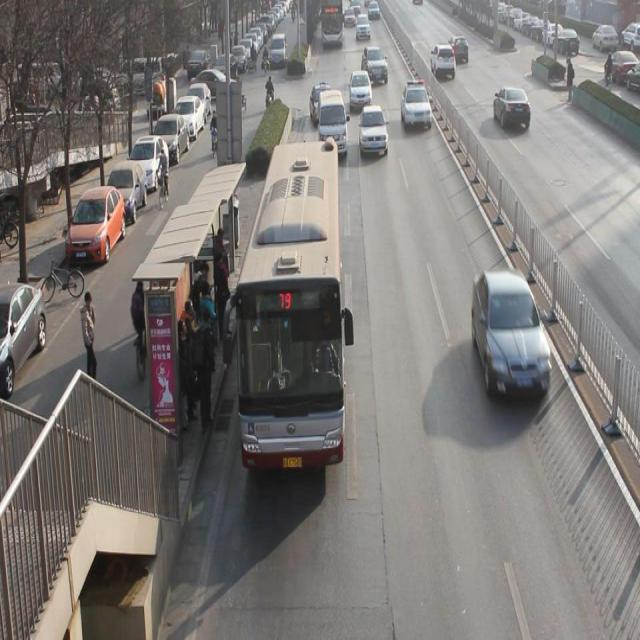car: (474, 272, 553, 400), (400, 80, 433, 136), (359, 106, 390, 159), (494, 88, 531, 132), (309, 83, 334, 126), (362, 47, 389, 83), (350, 72, 373, 108), (450, 31, 471, 66), (432, 45, 454, 78), (356, 14, 372, 42)
truck: (320, 92, 348, 164)
van: (233, 141, 343, 467), (320, 1, 343, 50)
